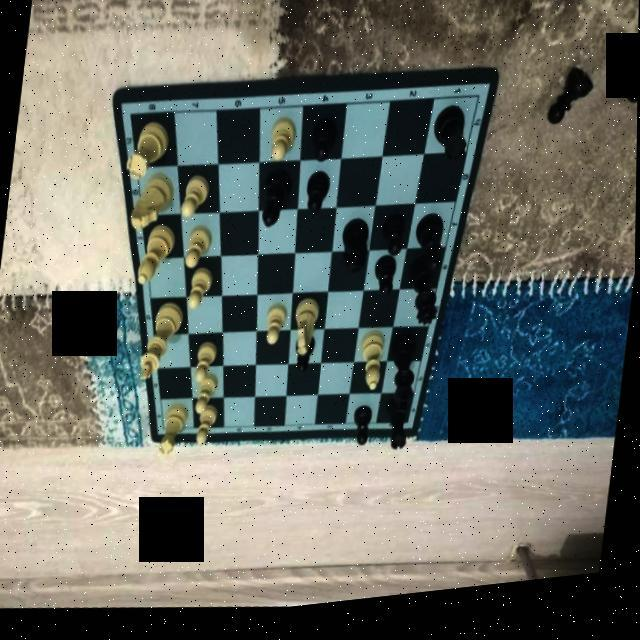chess-table-corners: (473, 98, 486, 115), (124, 110, 136, 126), (403, 424, 413, 438), (160, 426, 170, 438)
